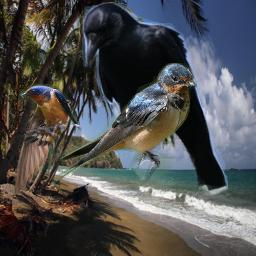Crow: (81, 2, 228, 199)
Swallow: (52, 63, 197, 185), (12, 84, 82, 195)
